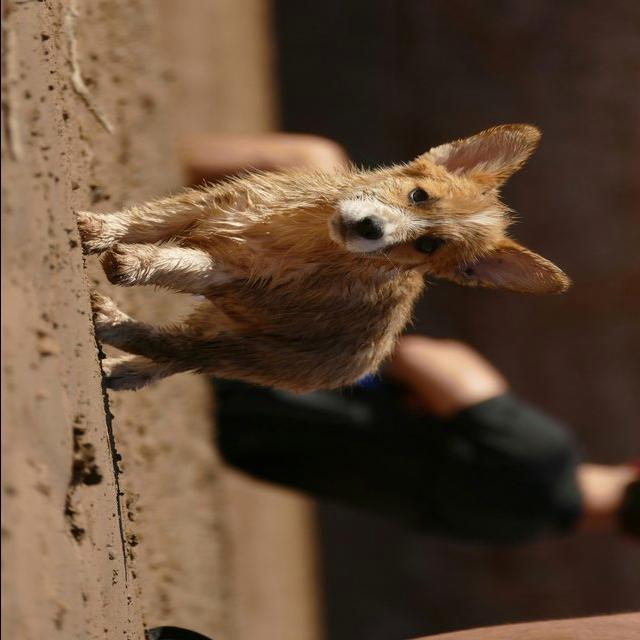corgi: (75, 123, 573, 397)
